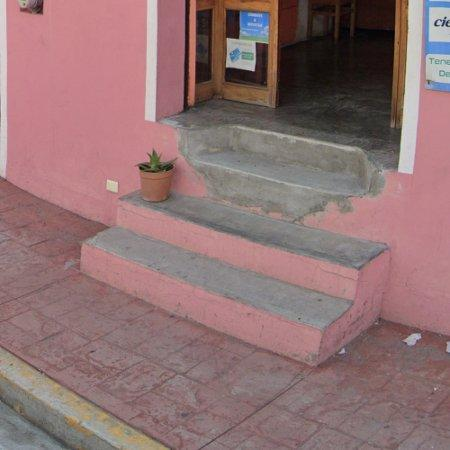stairs: (81, 119, 390, 365), (81, 193, 390, 366)
